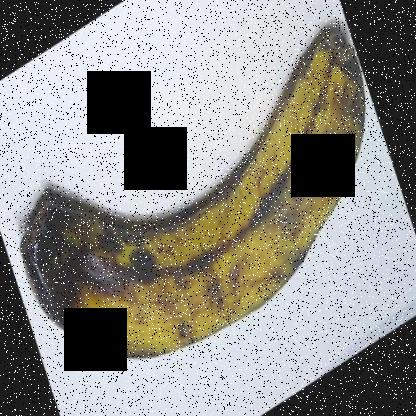overripe: (11, 5, 374, 377)
rotten: (20, 197, 132, 334)
